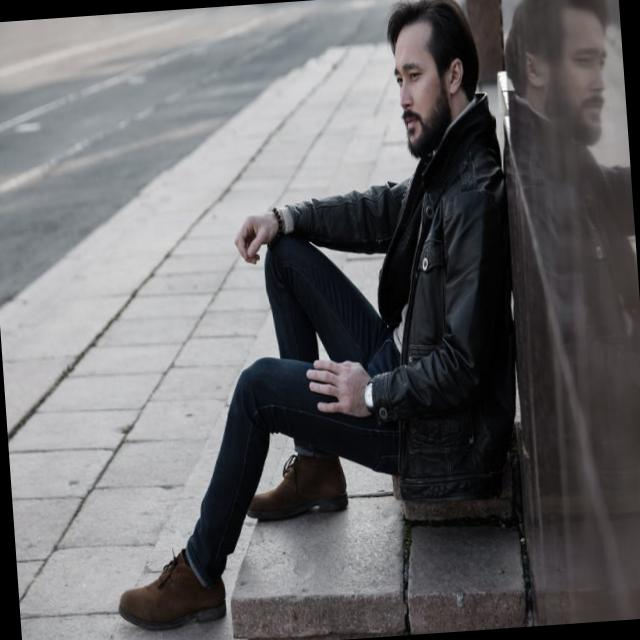Jacket: (322, 94, 562, 541)
